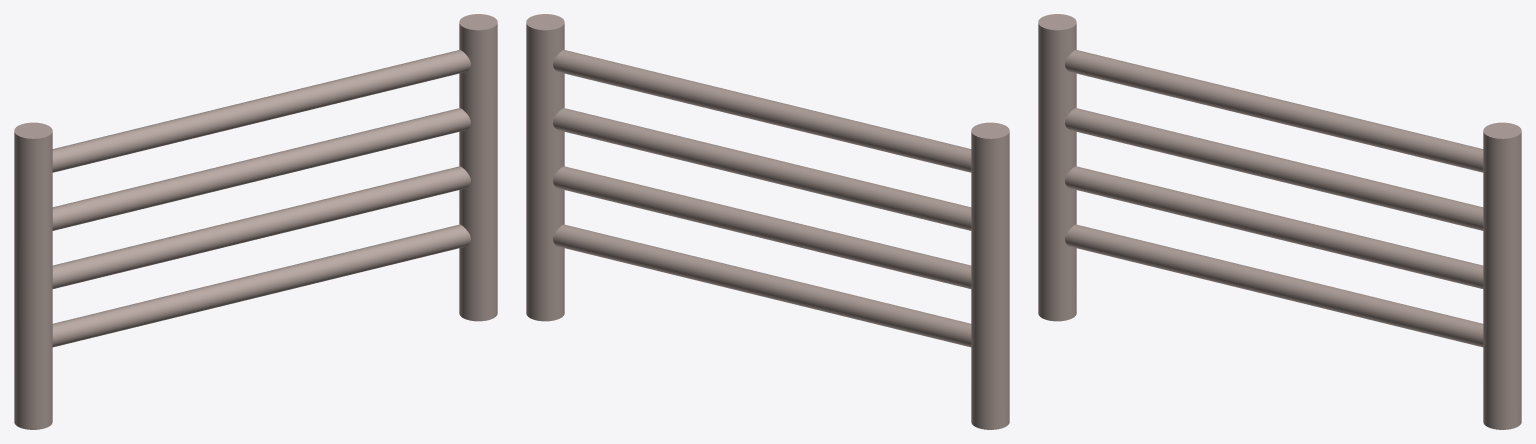
Rendered from 1012_fence_1.glb.
3 views of the same model, side by side, from view 1: azimuth 30°, elevation 25°; view 2: azimuth 150°, elevation 25°; view 3: azimuth 330°, elevation 25° (orthographic).
Parts seen in each view (by area): view 1: Body; view 2: Body; view 3: Body.
Boxes of the visible parts, x1,y1,x2,y2 form: Body: [14, 14, 497, 429]; Body: [526, 14, 1009, 429]; Body: [1038, 14, 1521, 429].
Size of the model in its own units: 2.15 by 1.25 by 0.15.
